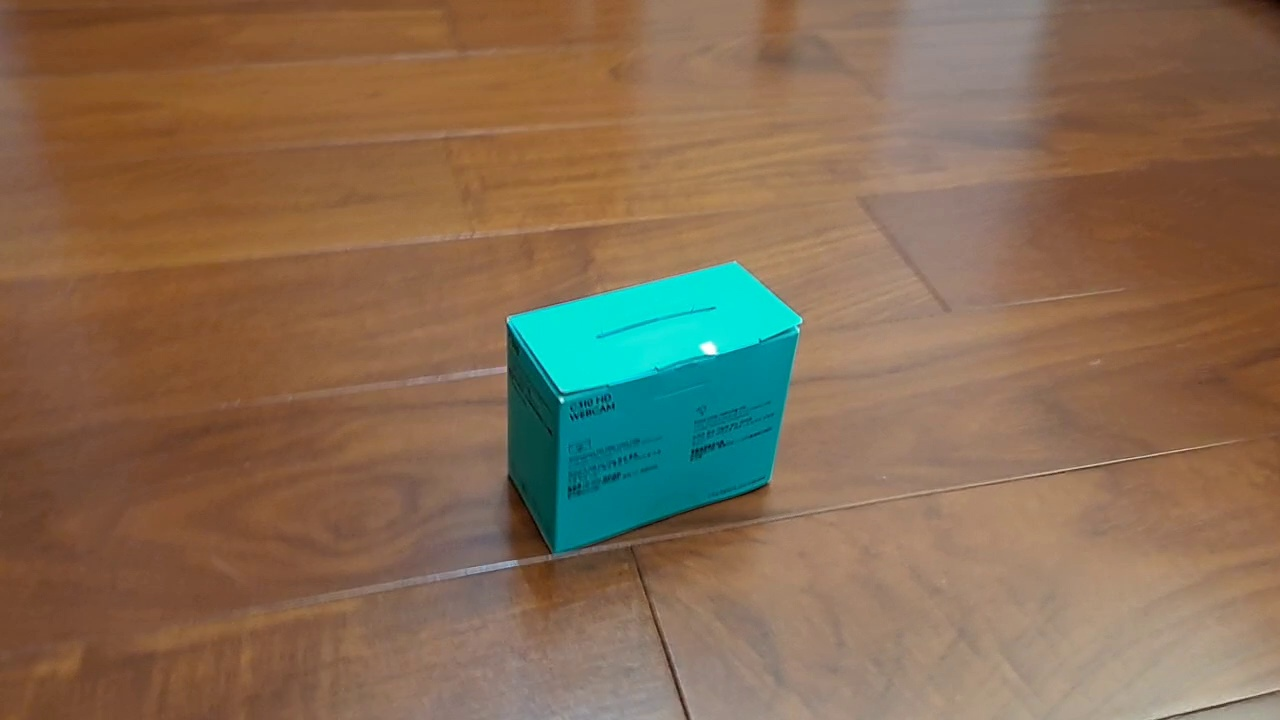webcam: (504, 259, 805, 559)
